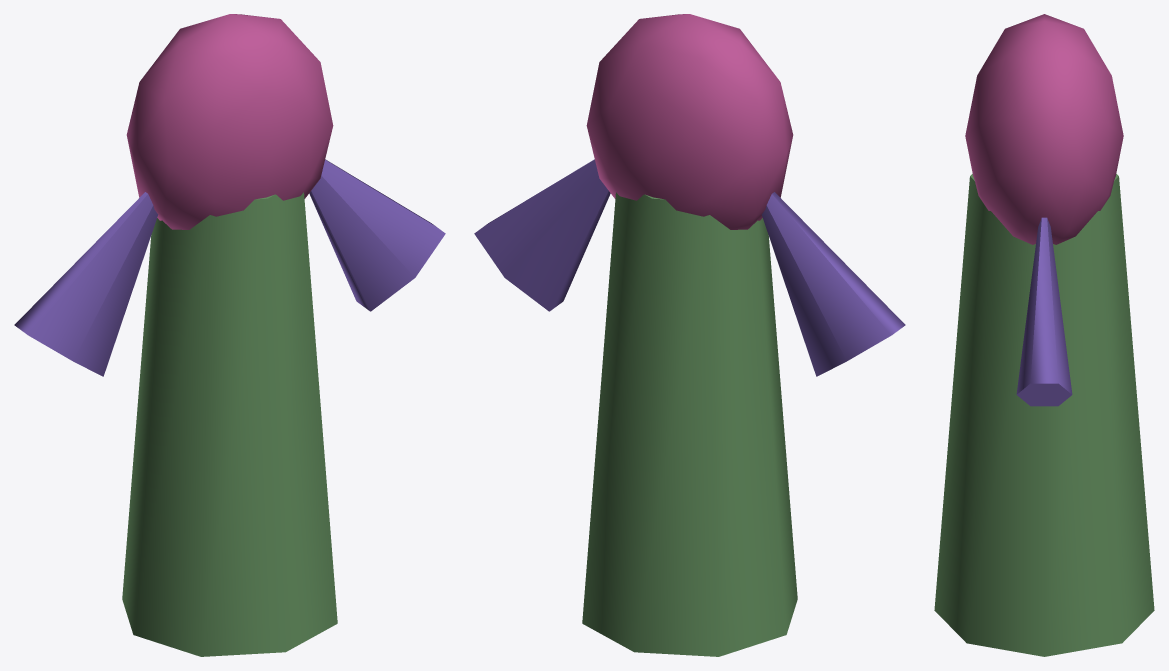
Rendered from path-marker.glb.
3 renders of one model, left to right at view 1: azimuth 30°, elevation 25°; view 2: azimuth 150°, elevation 25°; view 3: azimuth 270°, elevation 25°, orthographic.
Parts seen in each view (by area): view 1: totem_body, totem_head, wing_-1, wing_1; view 2: totem_body, totem_head, wing_-1, wing_1; view 3: totem_body, totem_head, wing_1.
Boxes of the visible parts, x1,y1,x2,y2 form: totem_body: (122, 192, 337, 656); totem_head: (126, 14, 333, 229); wing_-1: (14, 192, 158, 376); wing_1: (309, 159, 445, 311); totem_body: (582, 192, 797, 656); totem_head: (586, 14, 793, 229); wing_-1: (761, 192, 905, 376); wing_1: (474, 159, 610, 311); totem_body: (934, 174, 1154, 656); totem_head: (965, 14, 1123, 244); wing_1: (1016, 217, 1072, 406).
Size of what is drawn, in the model's own units: 2.68 by 3.66 by 1.24.
